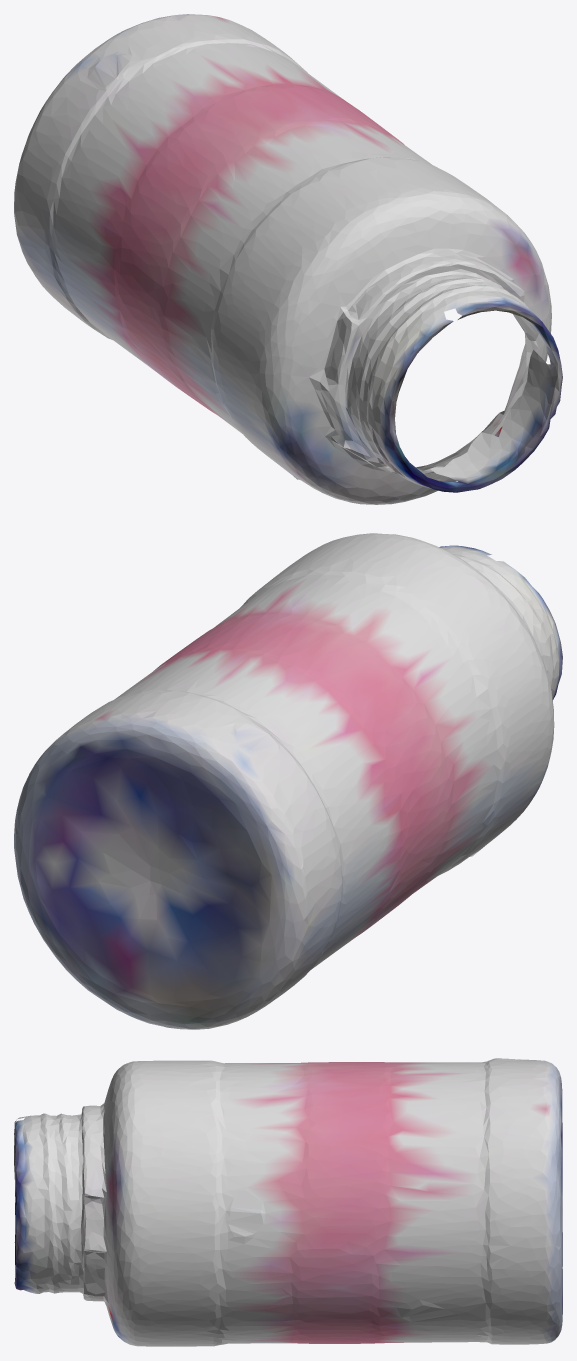
The picture shows the model from 3 angles, top to bottom: view 1: azimuth 30°, elevation 25°; view 2: azimuth 150°, elevation 25°; view 3: azimuth 270°, elevation 25°; orthographic projection. The views are drawn at different scales.
Visible parts, largest first — view 1: scan.ply; view 2: scan.ply; view 3: scan.ply.
Part boxes in pixels (x1,y1,x2,y2): scan.ply: [14, 14, 562, 504]; scan.ply: [14, 533, 562, 1029]; scan.ply: [14, 1058, 562, 1346].
Bounding box in the file's own units: 0.0624 × 0.0622 × 0.1195.
